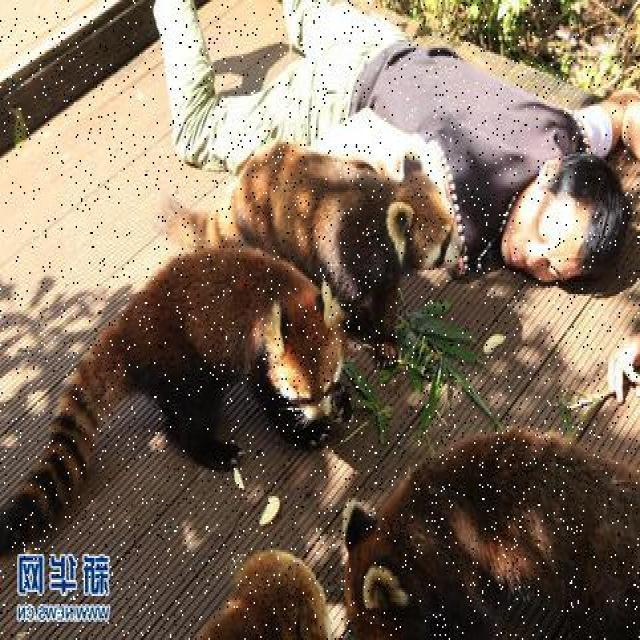fall: (161, 0, 638, 274)
